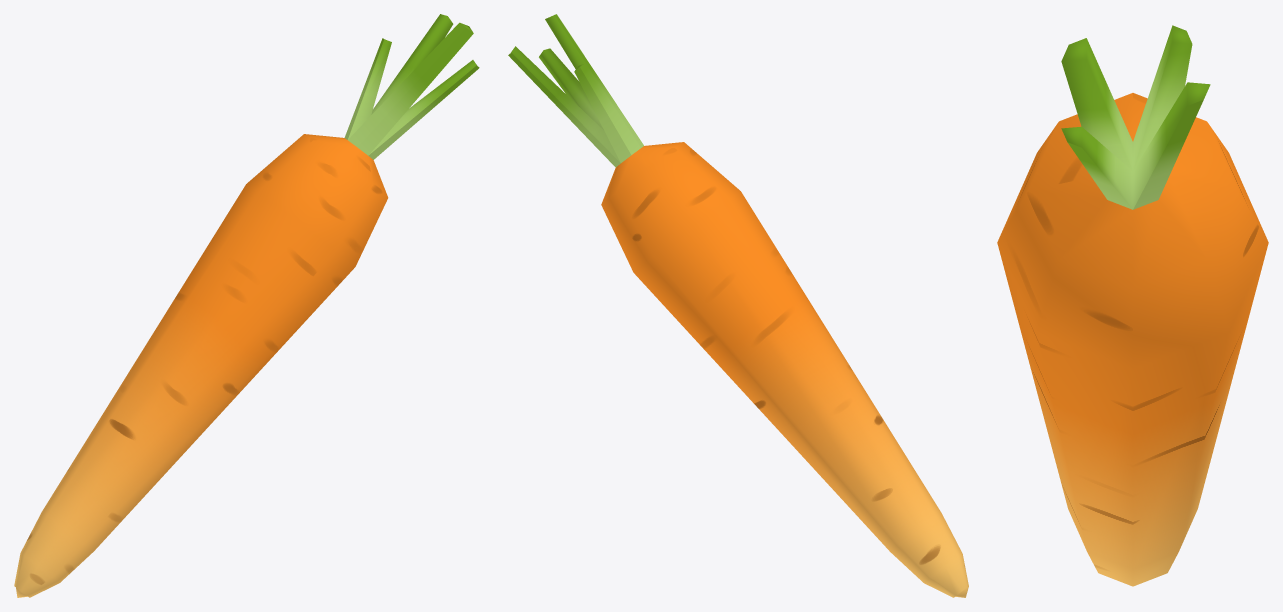
The picture shows the model from 3 angles, left to right: view 1: azimuth 30°, elevation 25°; view 2: azimuth 150°, elevation 25°; view 3: azimuth 270°, elevation 25°; orthographic projection. The views are drawn at different scales.
Visible parts, largest first — view 1: Carrot_0; view 2: Carrot_0; view 3: Carrot_0.
Boxes of the visible parts, x1,y1,x2,y2 form: Carrot_0: (14,14,479,597); Carrot_0: (508,14,968,597); Carrot_0: (997,25,1268,586).
Size of the model in its own units: 3.43 by 3.49 by 0.9082.
2 materials, 2 textured.
